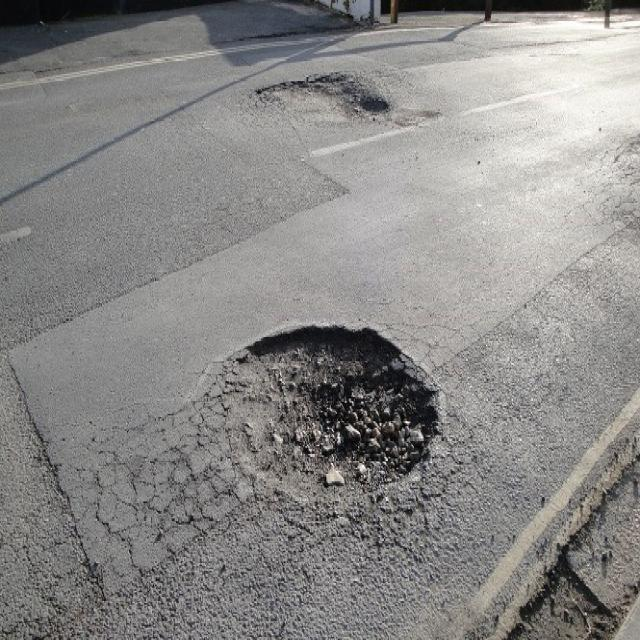pothole: (194, 269, 456, 524), (252, 63, 396, 139)
